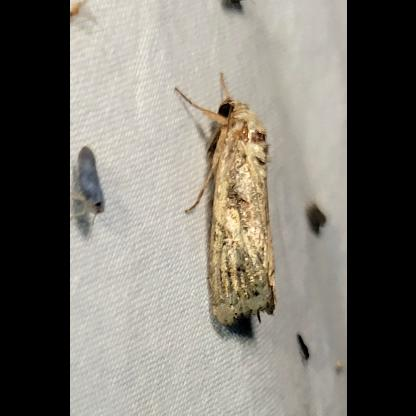Fall Armyworm Moth: (171, 69, 281, 332)
